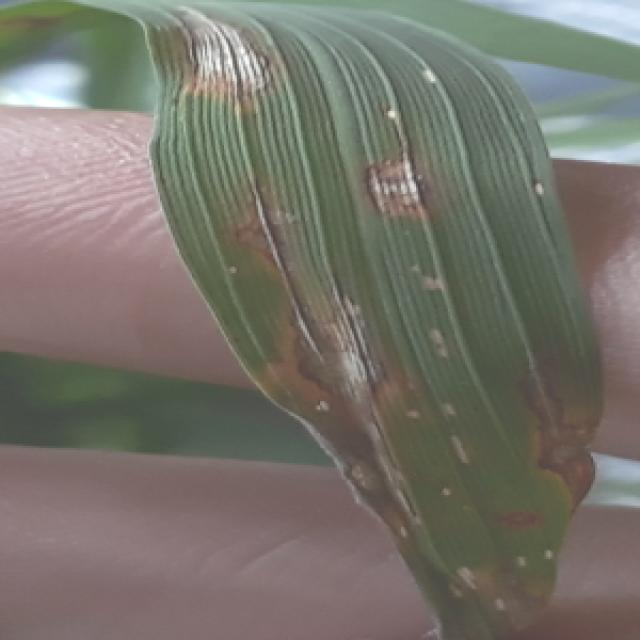Brown_Spot: (353, 127, 437, 248)
